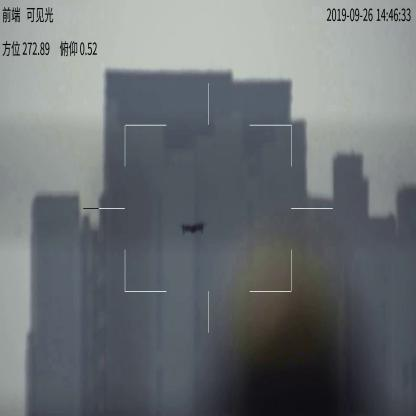uav: (178, 218, 207, 234)
